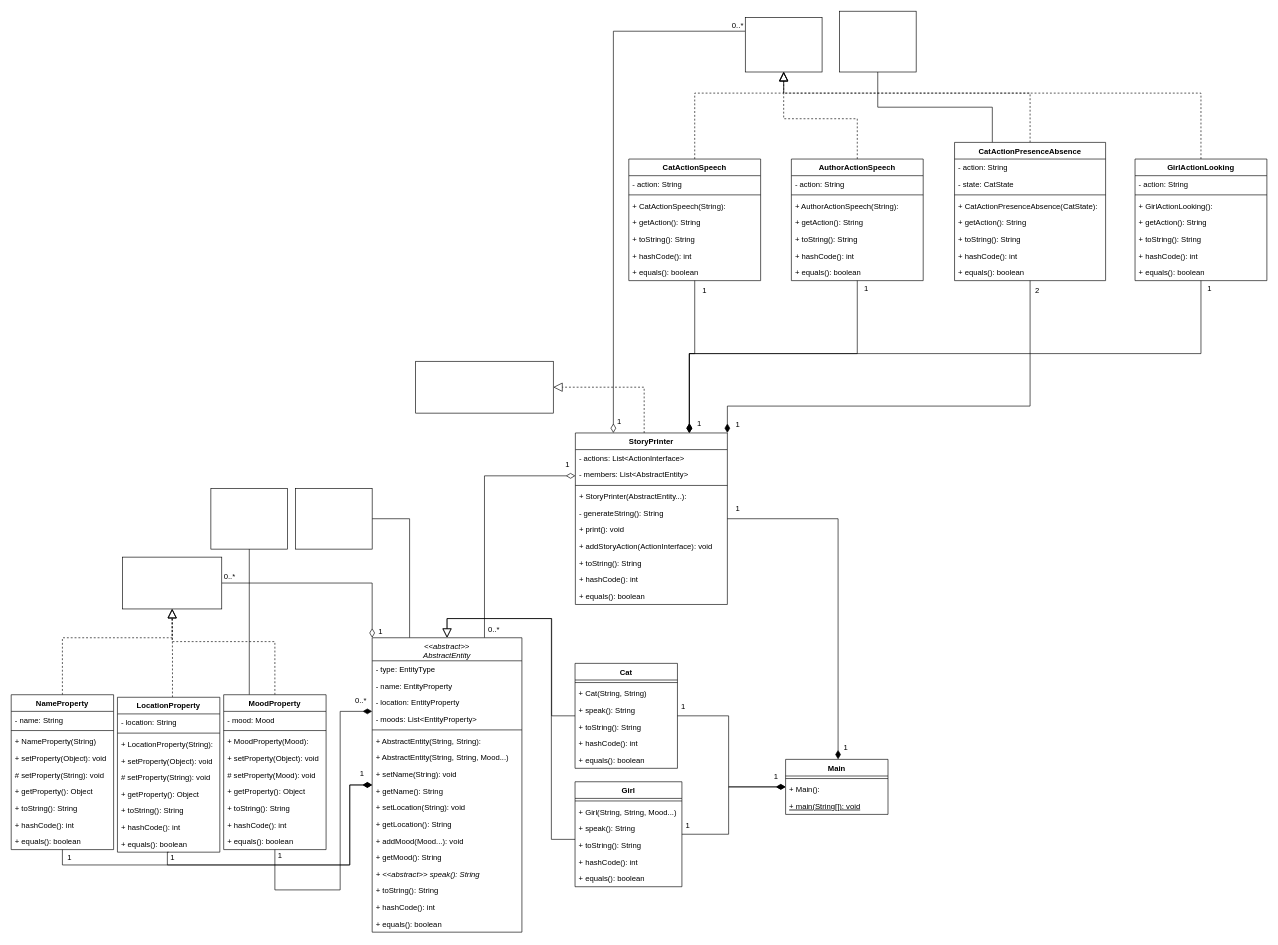
This 1278x945 diagram has some shape labels left out. The box of each missing label's shape, as (x1, y1, x2, y2) in pixels:
<<Interface>> ActionInterface + getAction(): String: (745, 17, 822, 72)
<<Interface>> EntityProperty + getProperty(): Object + setProperty(Object): void: (122, 556, 222, 609)
<<Interface>> Story + print(): void + addStoryAction(ActionInterface): void: (415, 361, 553, 413)
<enumeration>> CatState HERE LEFT: (839, 11, 916, 72)
<enumeration>> EntityType CAT GIRL: (295, 488, 372, 549)
<enumeration>> Mood ACCUSTOMED NOTSURPRISED: (210, 488, 288, 549)
